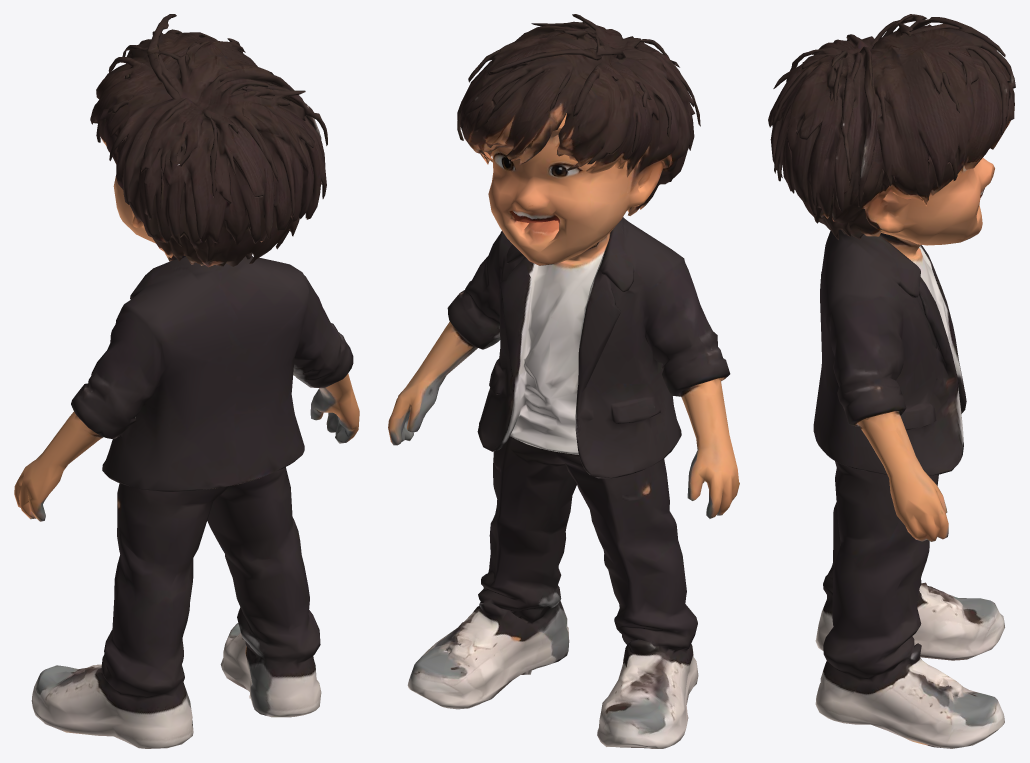
The model's file is matsui.glb.
3 views of the same model, side by side, from view 1: azimuth 30°, elevation 25°; view 2: azimuth 150°, elevation 25°; view 3: azimuth 270°, elevation 25° (orthographic).
Visible parts, largest first — view 1: tripo_node_22d92a0b-8cac-4b2c-ba74-a7b87a97624d; view 2: tripo_node_22d92a0b-8cac-4b2c-ba74-a7b87a97624d; view 3: tripo_node_22d92a0b-8cac-4b2c-ba74-a7b87a97624d.
Boxes of the visible parts, x1,y1,x2,y2 form: tripo_node_22d92a0b-8cac-4b2c-ba74-a7b87a97624d: (14,14,359,748); tripo_node_22d92a0b-8cac-4b2c-ba74-a7b87a97624d: (388,14,739,748); tripo_node_22d92a0b-8cac-4b2c-ba74-a7b87a97624d: (768,14,1015,748).
Size of the model in its own units: 0.8881 by 1.7 by 0.5747.
Materials: 1 (1 with a texture image).
